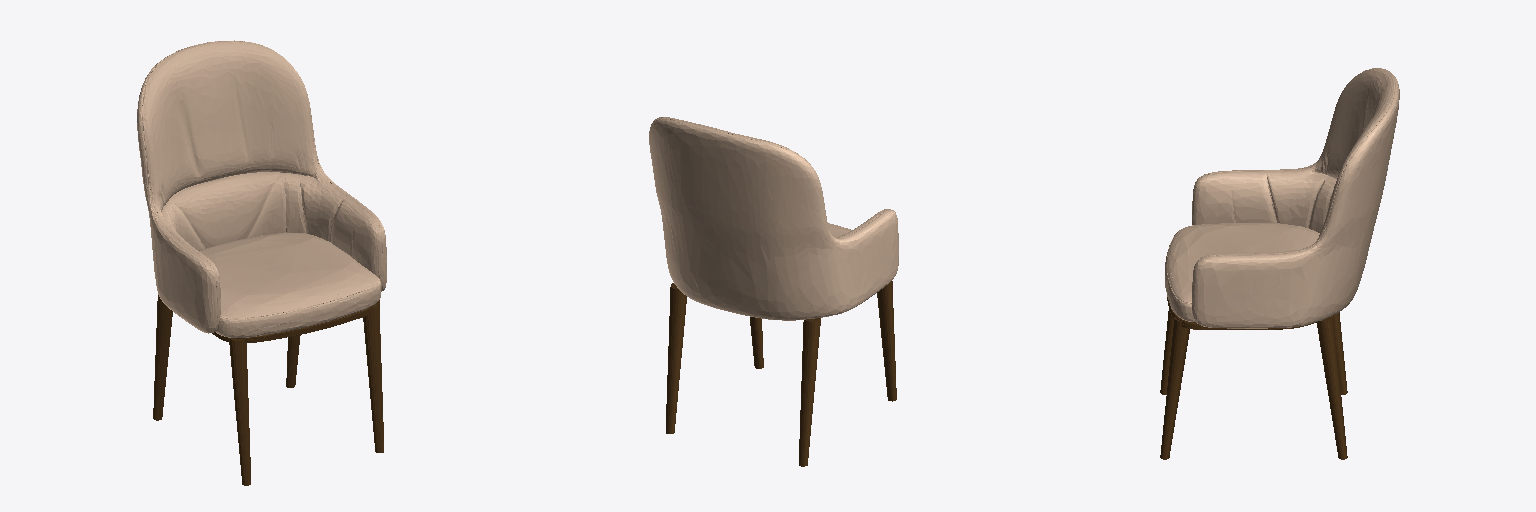
3 renders of one model, left to right at view 1: azimuth 30°, elevation 25°; view 2: azimuth 150°, elevation 25°; view 3: azimuth 270°, elevation 25°, orthographic.
Parts seen in each view (by area): view 1: solid_001, solid_002; view 2: solid_001, solid_002; view 3: solid_001, solid_002.
Part boxes in pixels (x1,y1,x2,y2): solid_001: (137,40,386,337); solid_002: (153,295,383,485); solid_001: (649,117,898,320); solid_002: (666,281,896,466); solid_001: (1165,68,1399,328); solid_002: (1160,297,1347,459).
Size of the model in its own units: 0.8743 by 1.51 by 0.9703.
1 materials, 1 textured.